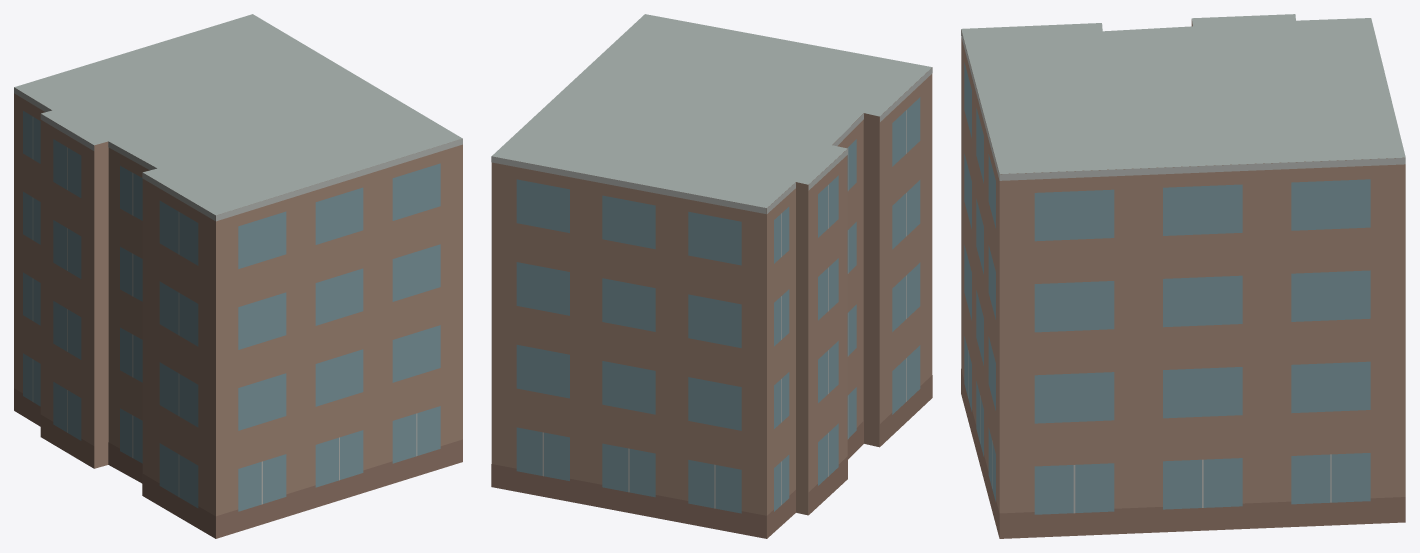
Rendered from survey-upis-32819574.glb.
3 renders of one model, left to right at view 1: azimuth 30°, elevation 25°; view 2: azimuth 150°, elevation 25°; view 3: azimuth 270°, elevation 25°, orthographic. The views are drawn at different scales.
Parts seen in each view (by area): view 1: survey-upis-32819574.tmp; view 2: survey-upis-32819574.tmp; view 3: survey-upis-32819574.tmp.
Boxes of the visible parts, left/top/right/bottom form: survey-upis-32819574.tmp: left=14, top=14, right=462, bottom=538; survey-upis-32819574.tmp: left=491, top=14, right=932, bottom=538; survey-upis-32819574.tmp: left=961, top=14, right=1405, bottom=538.
Size of the model in its own units: 12.39 by 13.15 by 14.54.
